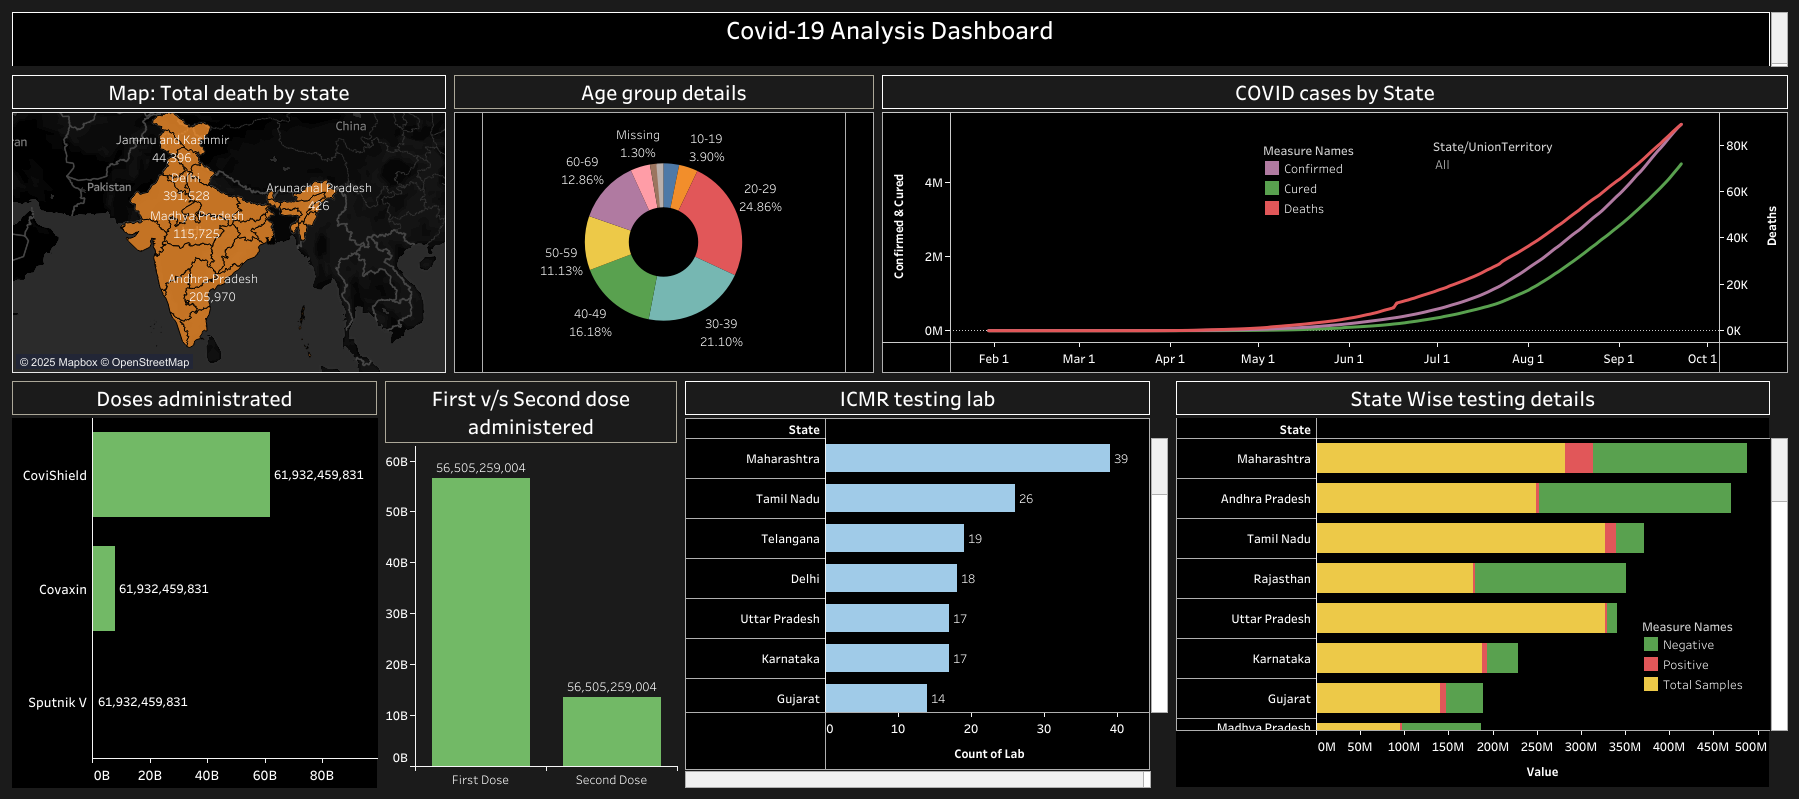

The page's visual inventory and layout, read from the dashboard file:
{"tool":"tableau","page":{"name":"Dashboard 1","canvas":[1800,800],"ordinal":0},"visuals":[{"type":"worksheet","title":"title","mark":"Automatic","box":[8,8,1784,63.1]},{"type":"worksheet","title":"Map: Total death by state","mark":"Automatic","box":[8,71.1,442,305.9]},{"type":"worksheet","title":"Age group details","mark":"Pie","rows":["Calculation_352969635285405697","Calculation_352969635285405697"],"box":[450,71.1,428,305.9]},{"type":"worksheet","title":"COVID cases by State","mark":"Automatic","rows":["Deaths"],"cols":["Date"],"box":[878,71.1,914,305.9]},{"type":"filter","title":"COVID cases by State","param":"[federated.0e0y9kd1suk8no1e488uf1n6h8mq].[none:State/UnionTerritory:nk]","box":[1433,136,168,69.3]},{"type":"legend","title":"COVID cases by State","param":"[federated.0e0y9kd1suk8no1e488uf1n6h8mq].[:Measure Names]","box":[1262,138.7,140,104]},{"type":"worksheet","title":"first vs second dose","mark":"Automatic","box":[8,377,373,415]},{"type":"worksheet","title":"Dose administered","mark":"Automatic","box":[381,377,300,415]},{"type":"worksheet","title":"ICMR testing lab","mark":"Automatic","rows":["state"],"cols":["lab"],"box":[681,377,491,415]},{"type":"worksheet","title":"State Wise testing details","mark":"Automatic","rows":["State"],"box":[1172,377,620,415]},{"type":"legend","title":"State Wise testing details","param":"[federated.0gh1htk0gqgfk81cnfso21sf5nkj].[:Measure Names]","box":[1641,615,122,105]}]}

Visuals, with their boxes in screenshot pixels (x1, y1, x2, y2), scaled from the page's 1800x800 canvas onto the 1799x799 screenshot:
"title" worksheet: [left=8, top=8, right=1791, bottom=71]
"Map: Total death by state" worksheet: [left=8, top=71, right=450, bottom=377]
"Age group details" worksheet (Pie marks): [left=450, top=71, right=878, bottom=377]
"COVID cases by State" worksheet: [left=878, top=71, right=1791, bottom=377]
"COVID cases by State" filter: [left=1432, top=136, right=1600, bottom=205]
"COVID cases by State" legend: [left=1261, top=139, right=1401, bottom=242]
"first vs second dose" worksheet: [left=8, top=377, right=381, bottom=791]
"Dose administered" worksheet: [left=381, top=377, right=681, bottom=791]
"ICMR testing lab" worksheet: [left=681, top=377, right=1171, bottom=791]
"State Wise testing details" worksheet: [left=1171, top=377, right=1791, bottom=791]
"State Wise testing details" legend: [left=1640, top=614, right=1762, bottom=719]
